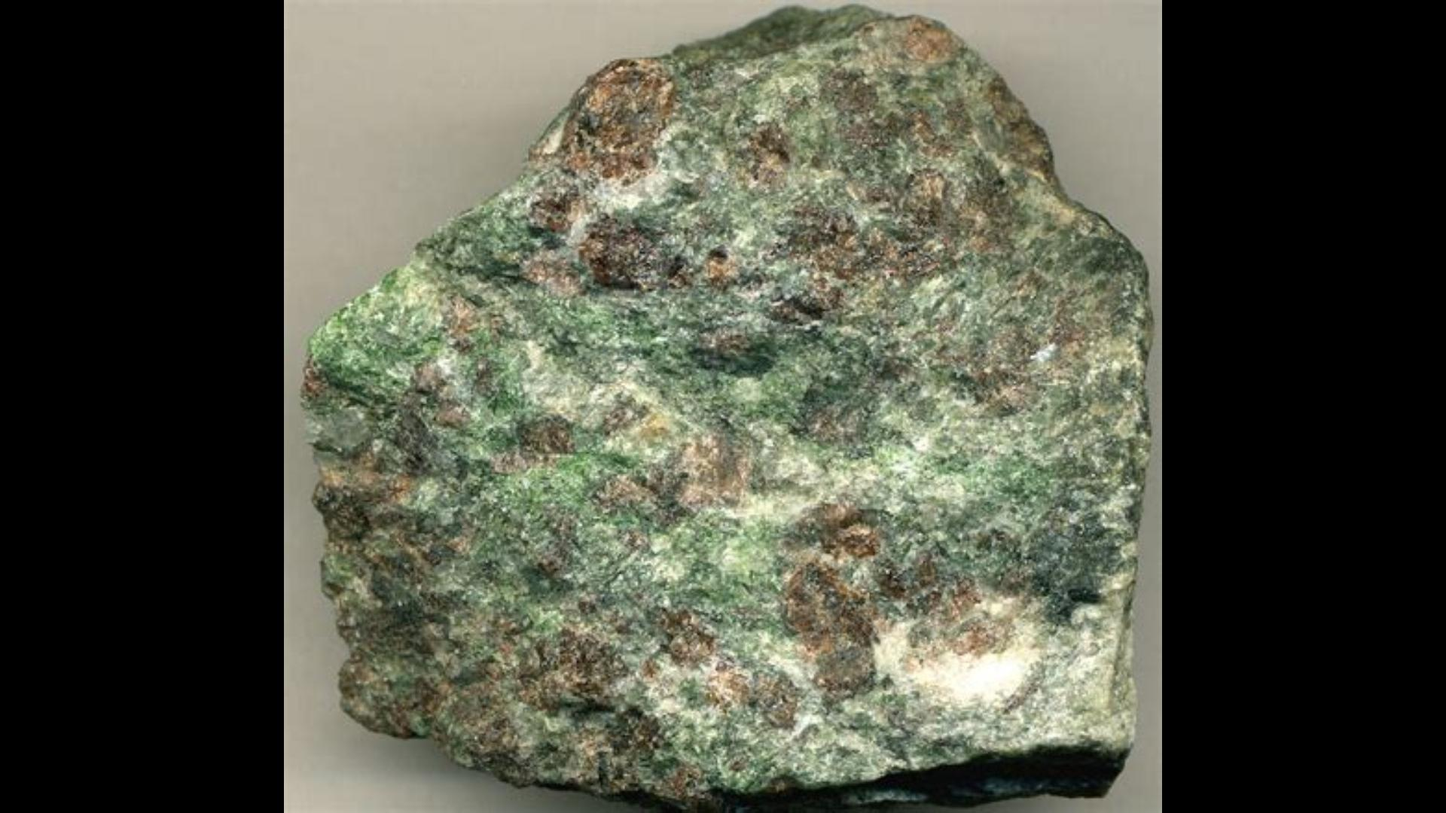rock: (310, 9, 1140, 806)
